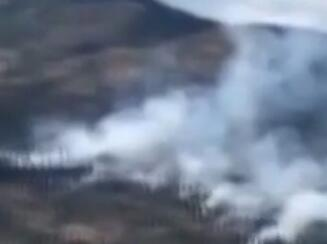yanwu: (4, 1, 325, 241)
